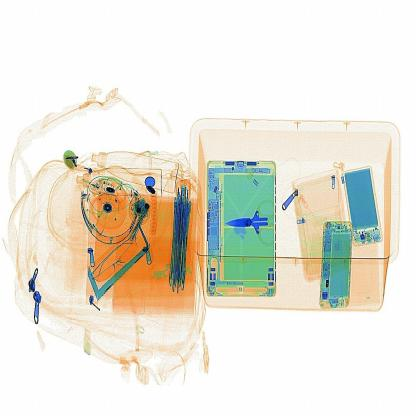gun: (222, 198, 280, 249)
